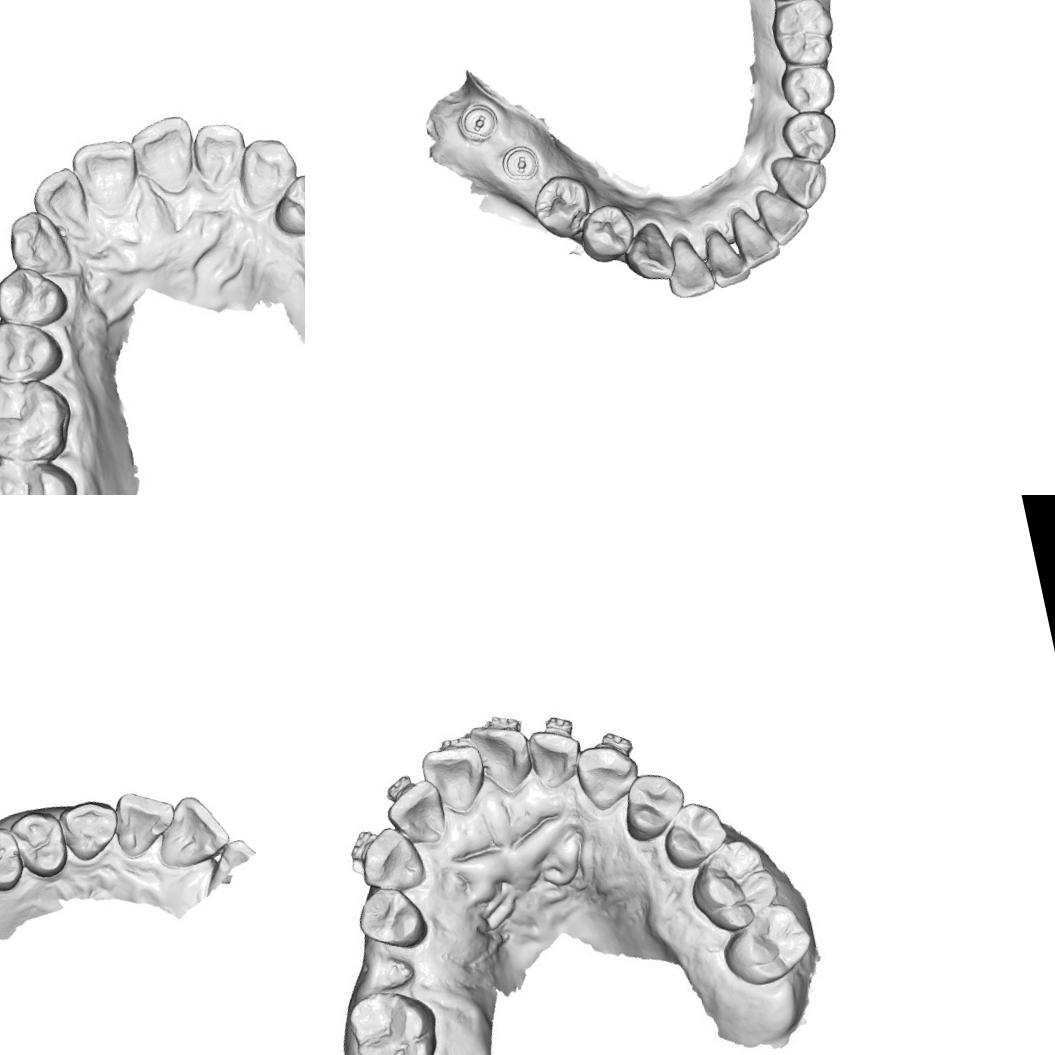canine: (231, 130, 305, 211), (352, 821, 430, 896), (571, 735, 640, 812), (55, 792, 126, 866), (3, 204, 71, 280), (767, 147, 837, 216), (618, 216, 679, 288)
implant_minus: (453, 99, 503, 149), (498, 142, 542, 185)
incisor: (147, 790, 233, 875), (70, 134, 145, 220), (132, 112, 205, 200), (108, 782, 184, 864), (467, 717, 540, 798), (417, 738, 489, 819), (380, 778, 453, 848), (189, 120, 252, 200), (31, 166, 94, 242), (752, 180, 815, 250), (522, 722, 584, 790), (659, 232, 718, 302), (726, 202, 784, 273), (697, 222, 754, 292)
molar: (681, 829, 789, 938), (714, 896, 820, 992), (0, 369, 78, 471), (341, 979, 444, 1055), (764, 0, 842, 74), (0, 453, 87, 495)
premolar: (350, 878, 432, 959), (654, 794, 735, 873), (614, 766, 690, 844), (525, 168, 598, 246), (0, 258, 72, 337), (6, 804, 73, 884), (0, 311, 65, 389), (573, 198, 642, 268), (776, 105, 843, 170), (776, 58, 842, 120), (266, 167, 305, 240), (0, 818, 30, 898)
